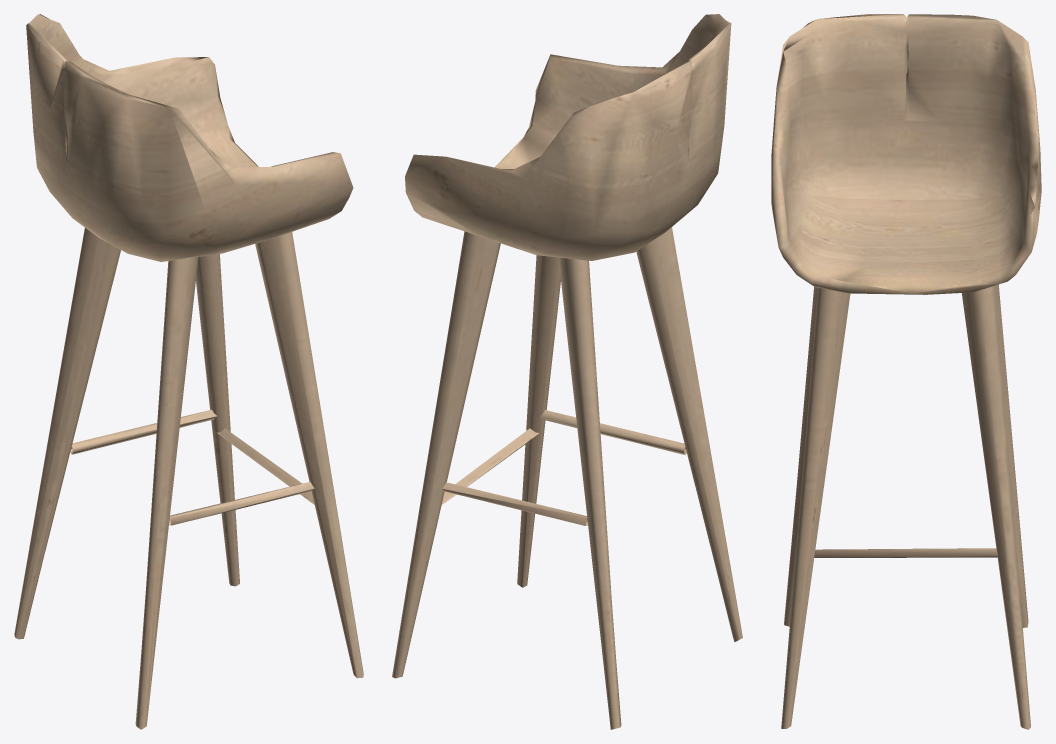
The model's file is Chair0026.obj.
3 renders of one model, left to right at view 1: azimuth 30°, elevation 25°; view 2: azimuth 150°, elevation 25°; view 3: azimuth 270°, elevation 25°, orthographic. The views are drawn at different scales.
Size of the model in its own units: 0.401 by 1.01 by 0.407.
1 material, 1 textured.
